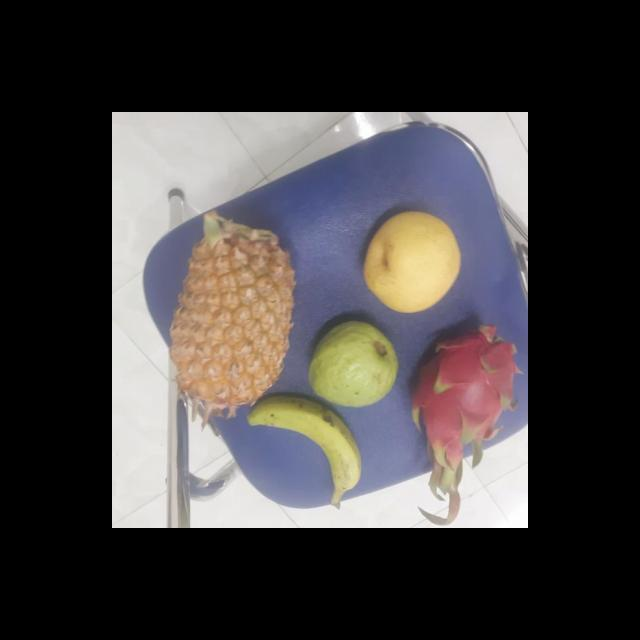banana: (247, 396, 361, 500)
guava: (306, 322, 398, 407)
pear: (358, 210, 462, 312)
pineapple: (162, 210, 294, 416)
pitaya: (406, 323, 516, 455)
